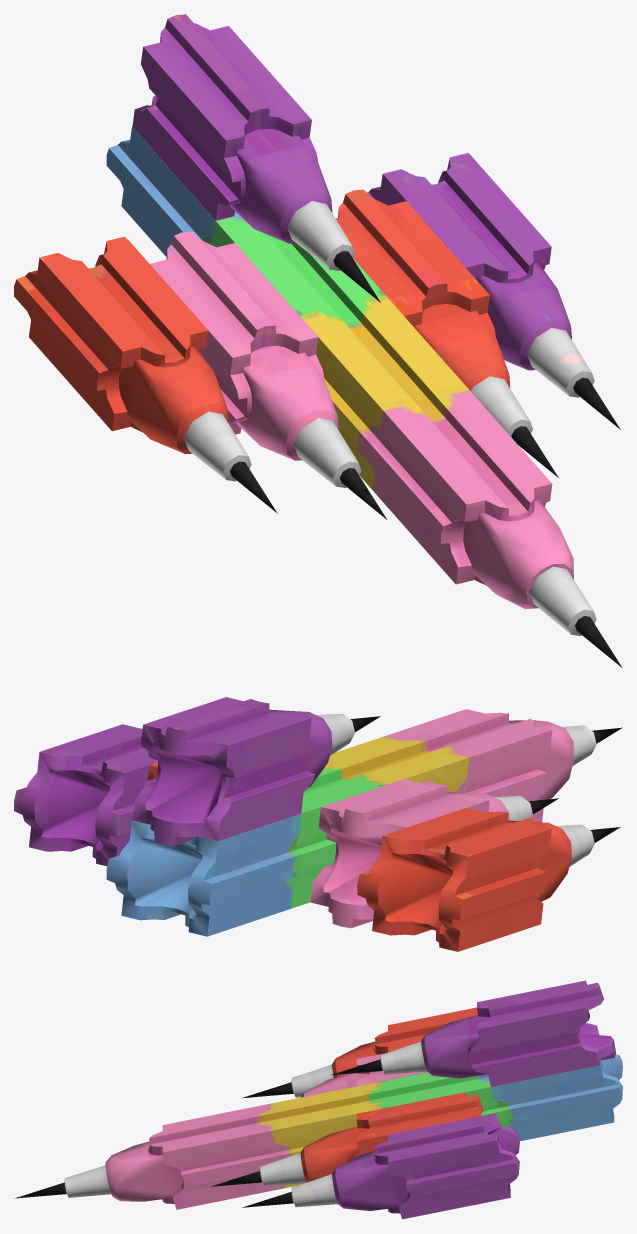
File: GTPlanePen.obj
The picture shows the model from 3 angles, top to bottom: view 1: azimuth 30°, elevation 25°; view 2: azimuth 150°, elevation 25°; view 3: azimuth 270°, elevation 25°; orthographic projection. The views are drawn at different scales.
Parts seen in each view (by area): view 1: ziDanBiFeiJi; view 2: ziDanBiFeiJi; view 3: ziDanBiFeiJi.
Part boxes in pixels (x1,y1,x2,y2): ziDanBiFeiJi: [14, 14, 622, 667]; ziDanBiFeiJi: [14, 697, 622, 951]; ziDanBiFeiJi: [14, 980, 622, 1219].
Bounding box in the file's own units: 1.26 × 0.8821 × 2.28.
